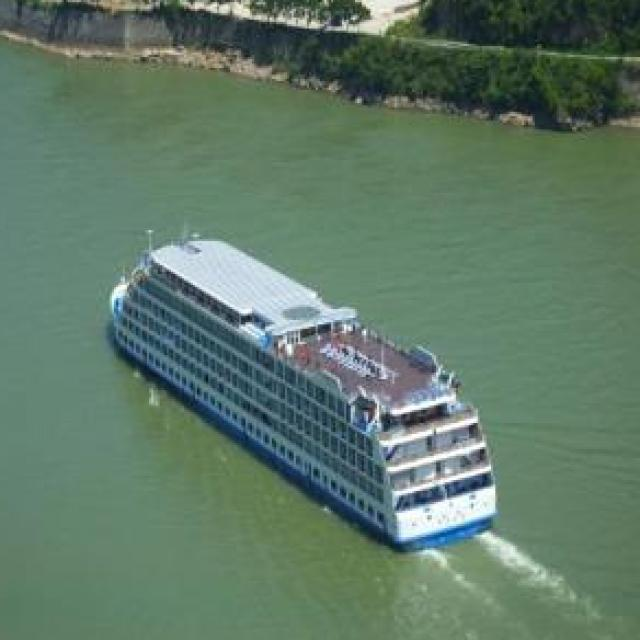passenger ship: (108, 223, 501, 550)
